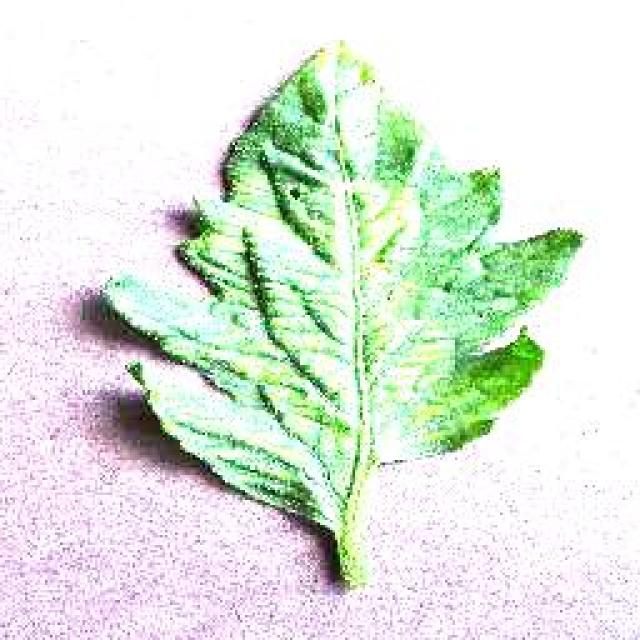Tomato___Tomato_mosaic_virus: (102, 40, 582, 585)
